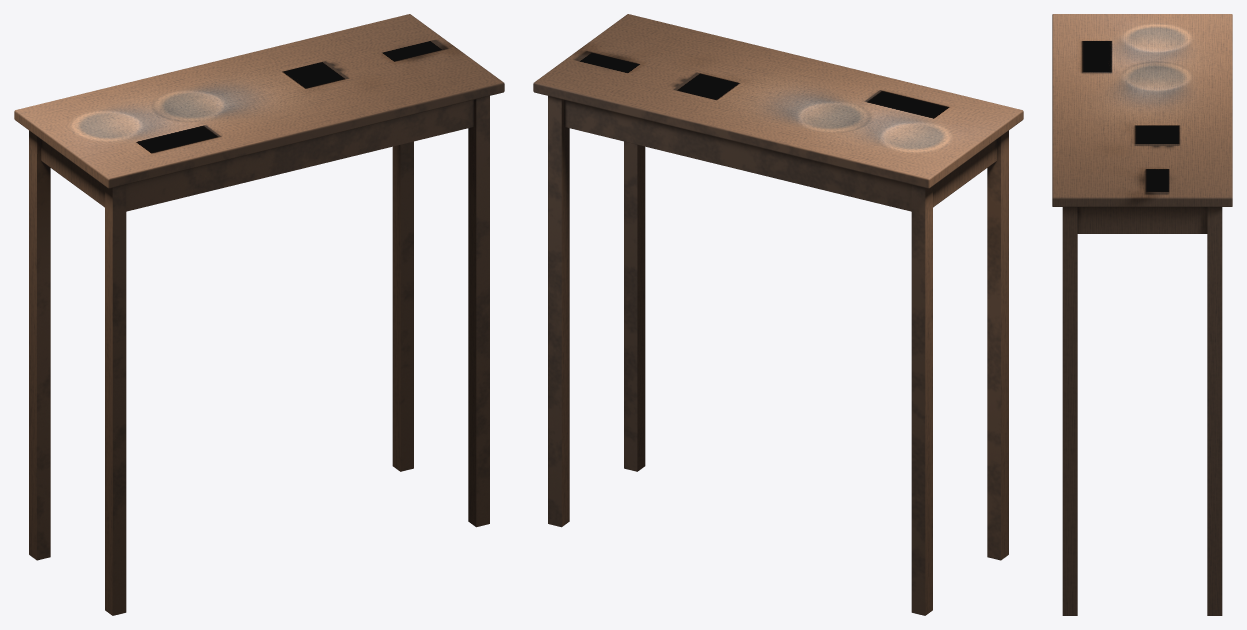
The model's file is 813_water.glb.
3 views of the same model, side by side, from view 1: azimuth 30°, elevation 25°; view 2: azimuth 150°, elevation 25°; view 3: azimuth 270°, elevation 25° (orthographic). The views are drawn at different scales.
Parts seen in each view (by area): view 1: Table; view 2: Table; view 3: Table.
Part boxes in pixels (box(x1,y1,x2,y2)): Table: box(14, 14, 504, 615); Table: box(533, 14, 1023, 615); Table: box(1052, 14, 1232, 615).
Size of what is drawn, in the model's own units: 2.9 by 3.1 by 1.2.
1 material, 1 textured.
